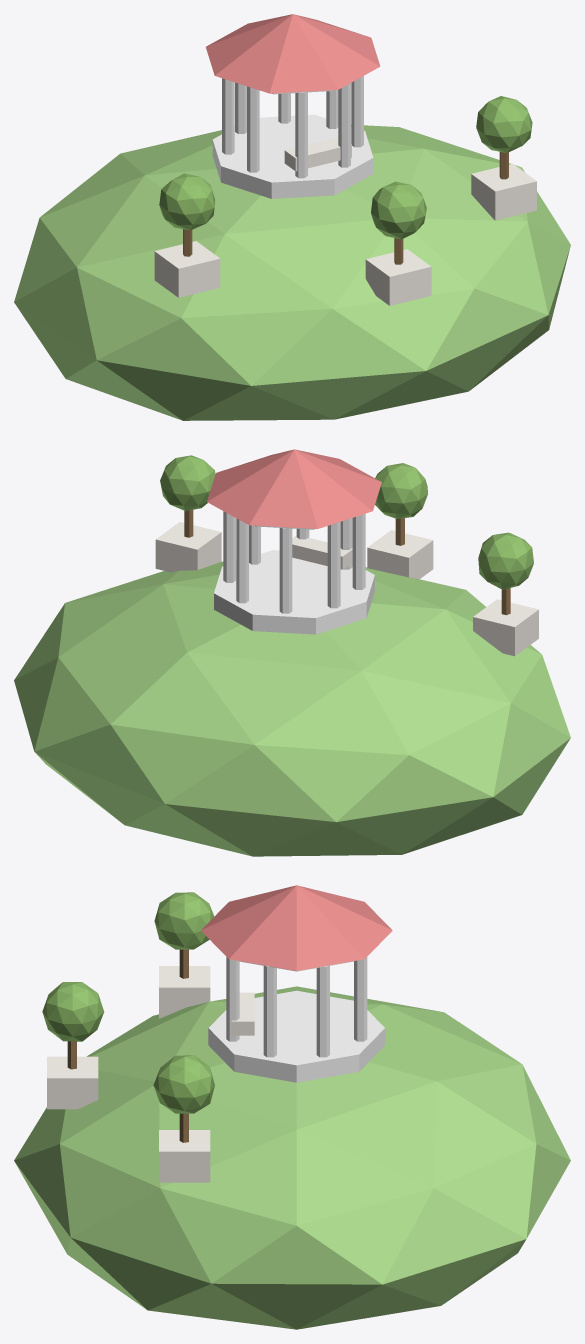
Rendered from bandstand-hill.glb.
3 views of the same model, one above another, from view 1: azimuth 30°, elevation 25°; view 2: azimuth 150°, elevation 25°; view 3: azimuth 270°, elevation 25° (orthographic). The views are drawn at different scales.
Parts seen in each view (by area): view 1: park-bandstand-hill; view 2: park-bandstand-hill; view 3: park-bandstand-hill.
Boxes of the visible parts, box(x1,y1,x2,y2) form: park-bandstand-hill: box(14, 14, 570, 420); park-bandstand-hill: box(14, 449, 570, 856); park-bandstand-hill: box(14, 885, 570, 1329).
Size of the model in its own units: 2.75 by 1.73 by 2.61.
